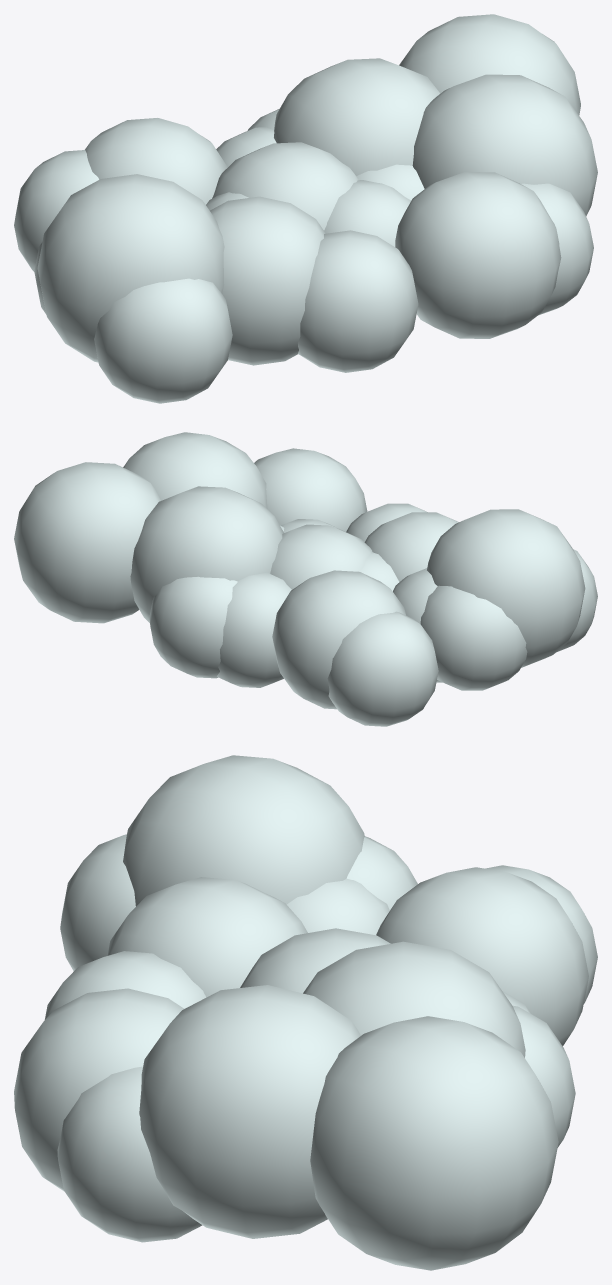
Rendered from cloud.fbx.
3 renders of one model, top to bottom at view 1: azimuth 30°, elevation 25°; view 2: azimuth 150°, elevation 25°; view 3: azimuth 270°, elevation 25°, orthographic. The views are drawn at different scales.
Visible parts, largest first — view 1: Cloud1; view 2: Cloud1; view 3: Cloud1.
Boxes of the visible parts, bbox=[...] form: Cloud1: bbox=[14, 14, 597, 403]; Cloud1: bbox=[14, 432, 597, 726]; Cloud1: bbox=[14, 755, 597, 1270].
Size of the model in its own units: 814 by 259 by 534.
